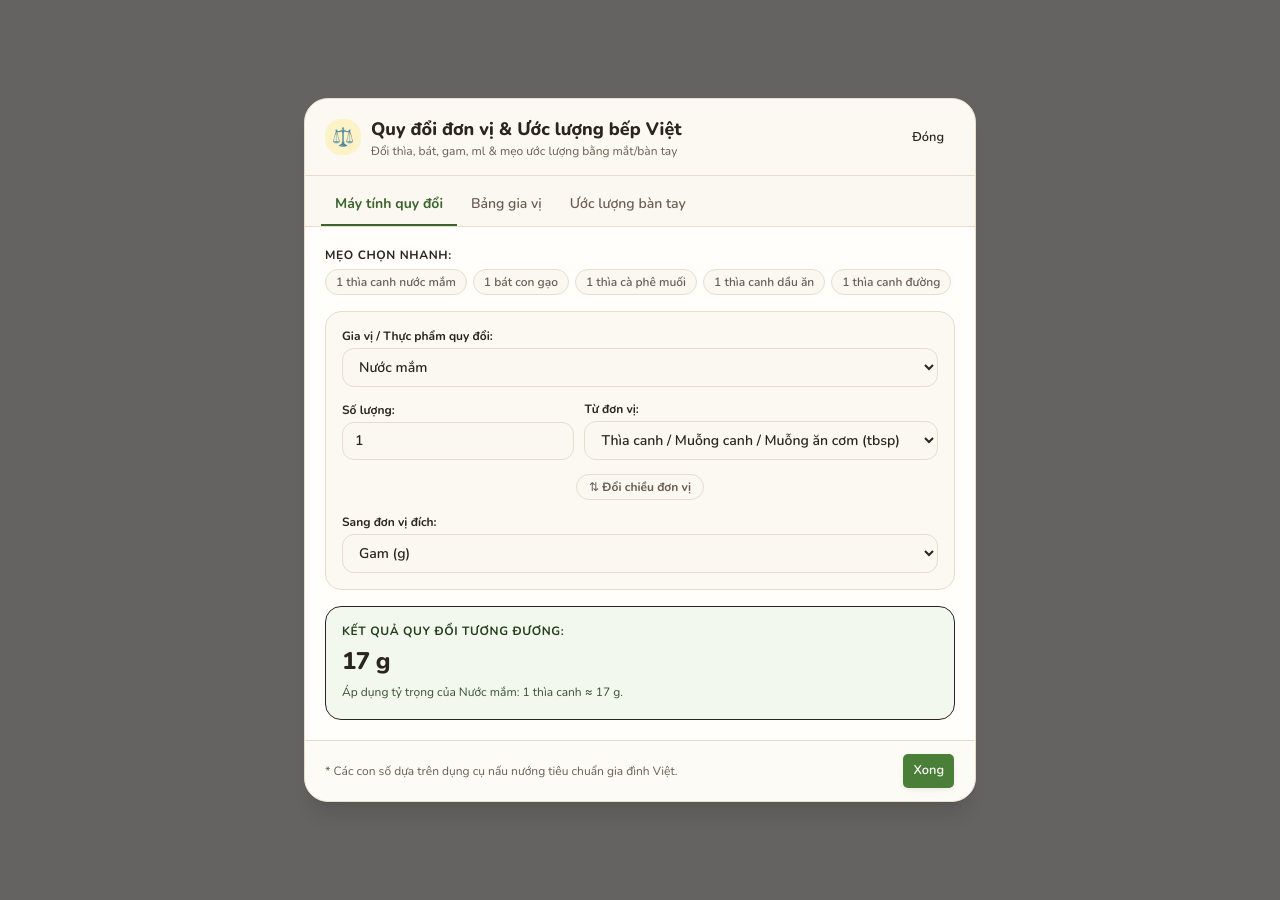
Scenario: KitchenMeasurementModal › applies quick presets and swaps conversion units
The width and height of the screenshot is (1280, 900).
# Click quick preset: "1 bát con gạo"
Click the button "1 bát con gạo" at (521, 282), box [473, 269, 569, 295]
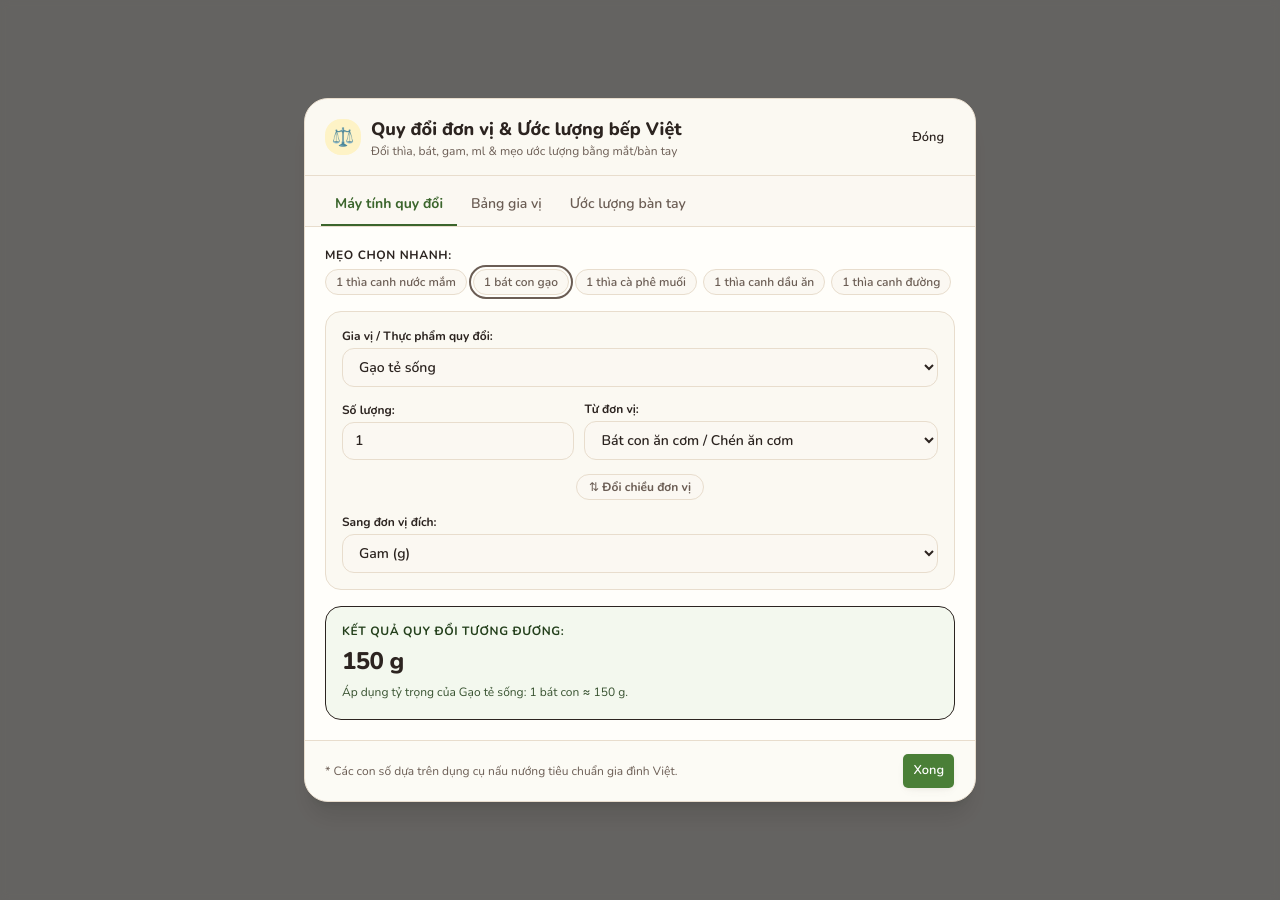
Now the text with test id "converter-result-display" reads "150 g", box [342, 645, 404, 677]
# Click swap button
Click the button with test id "converter-swap-btn" at (640, 487), box [576, 474, 704, 500]
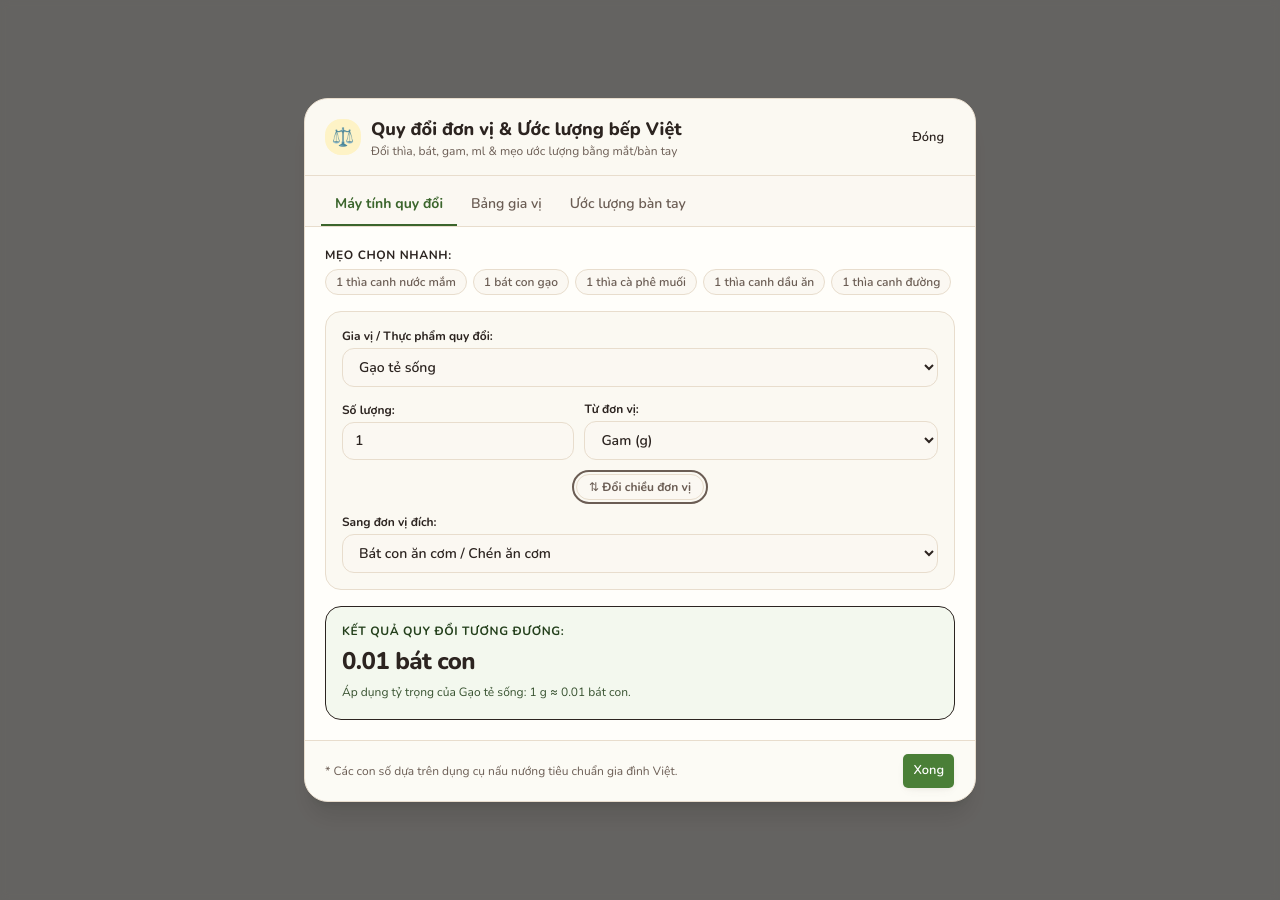
Now the dropdown with test id "converter-from-unit-select" shows "Gam (g)", box [584, 421, 938, 460]
Now the dropdown with test id "converter-to-unit-select" shows "Bát con ăn cơm / Chén ăn cơm", box [342, 534, 938, 573]
